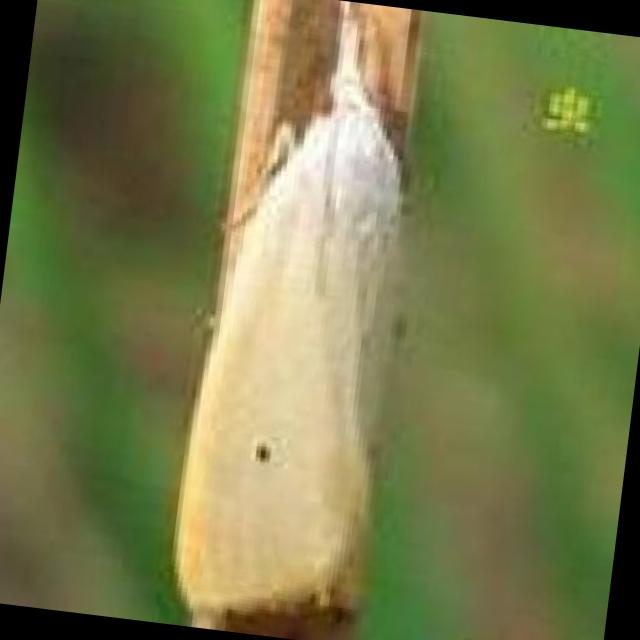stem-borer: (160, 0, 441, 639)
